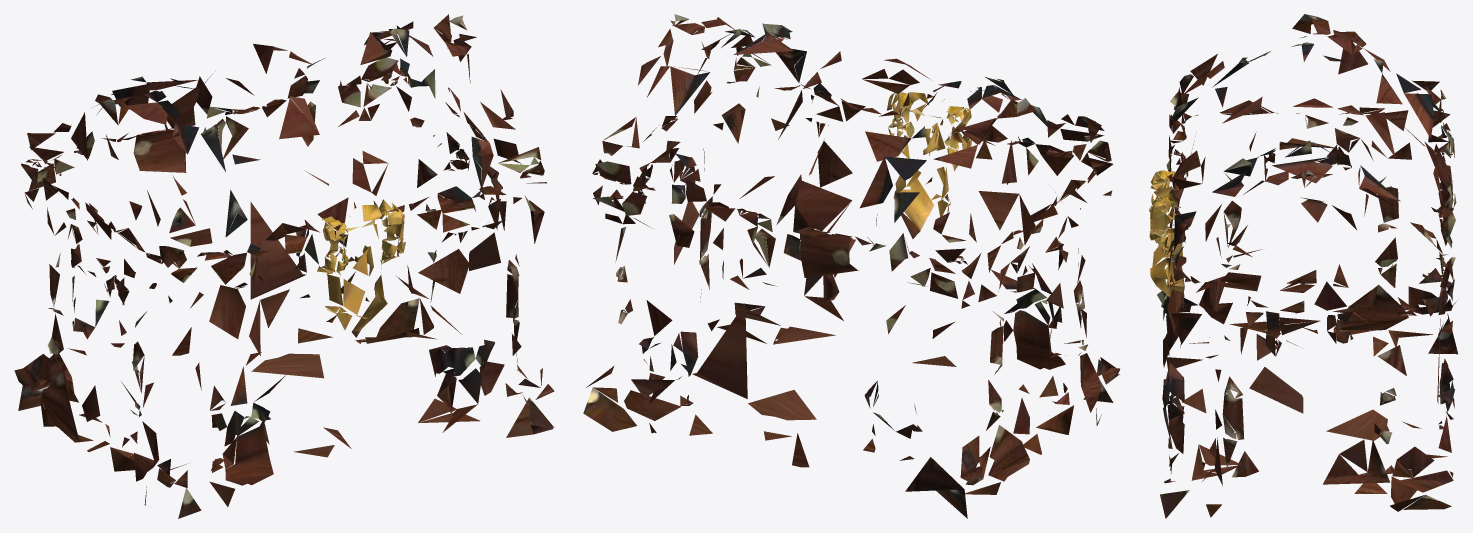
File: treasure_chest.glb
The picture shows the model from 3 angles, left to right: view 1: azimuth 30°, elevation 25°; view 2: azimuth 150°, elevation 25°; view 3: azimuth 270°, elevation 25°; orthographic projection. The views are drawn at different scales.
Visible parts, largest first — view 1: Mesh_0; view 2: Mesh_0; view 3: Mesh_0.
Boxes of the visible parts, x1=… form: Mesh_0: x1=14, y1=14, x2=554, y2=518; Mesh_0: x1=583, y1=14, x2=1119, y2=518; Mesh_0: x1=1149, y1=14, x2=1457, y2=518.
Bounding box in the file's own units: 1.14 × 0.9972 × 0.8195.
1 material, 1 textured.
